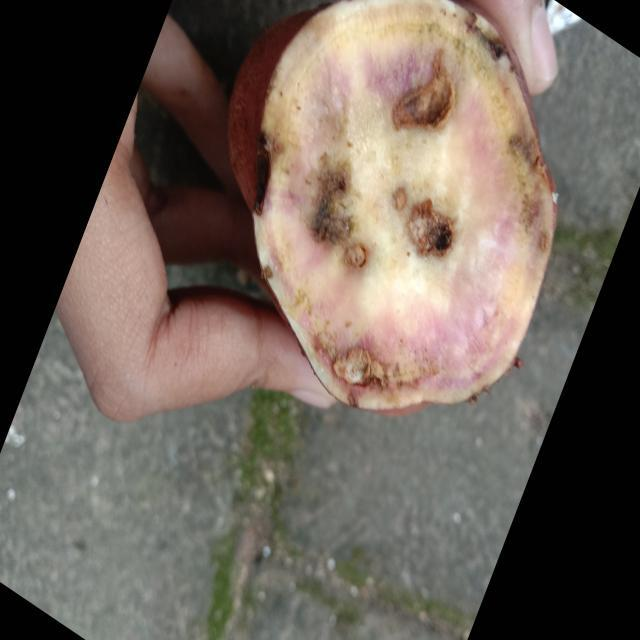Sick Sweet Potato_Tuber Rot: (254, 2, 556, 410)
